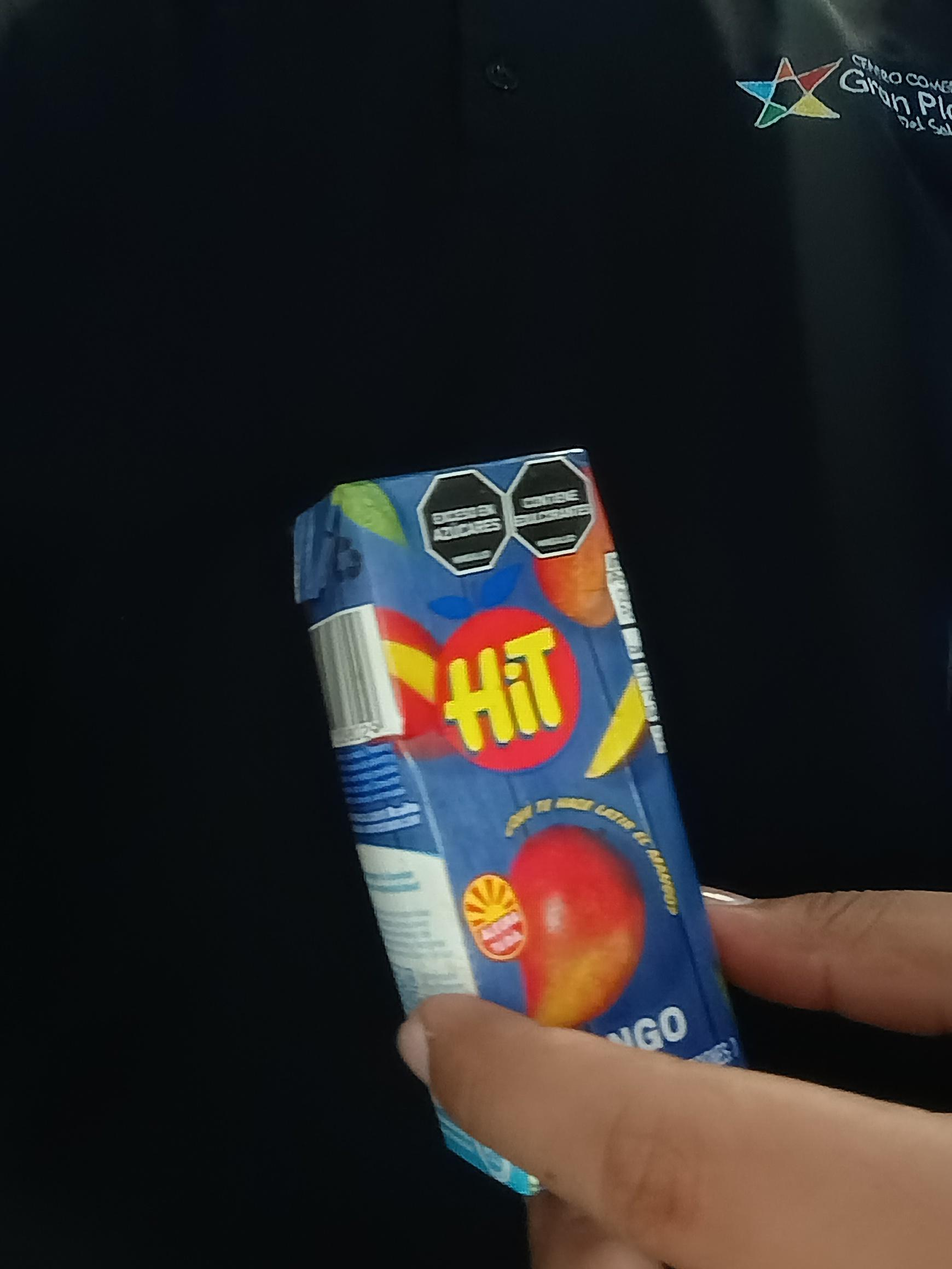Carton: (296, 450, 744, 1191), (273, 823, 292, 834)
